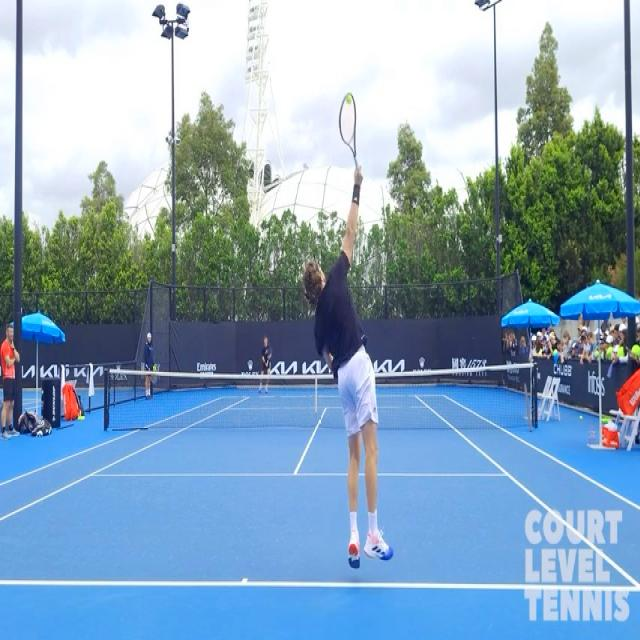serve_hit: (294, 81, 384, 582)
